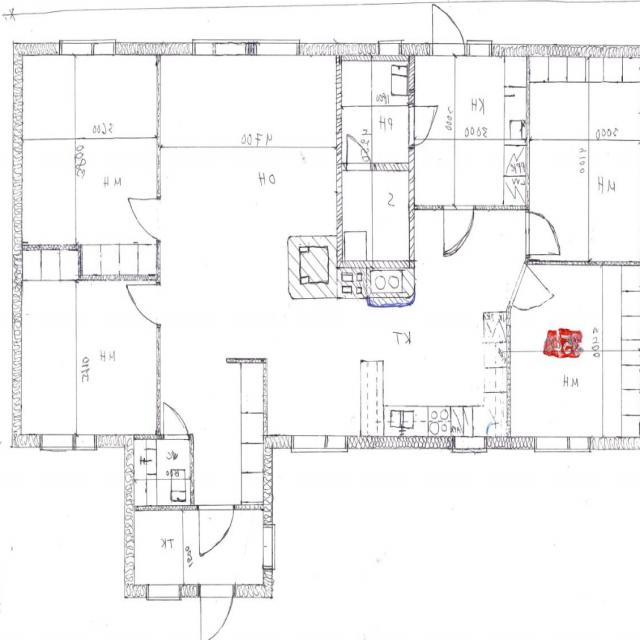door: (425, 417, 494, 507), (306, 11, 357, 100), (450, 334, 504, 399), (270, 173, 324, 233), (323, 324, 368, 392), (176, 212, 212, 272)
